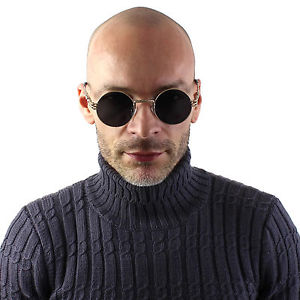sunglasses: (83, 91, 200, 129)
